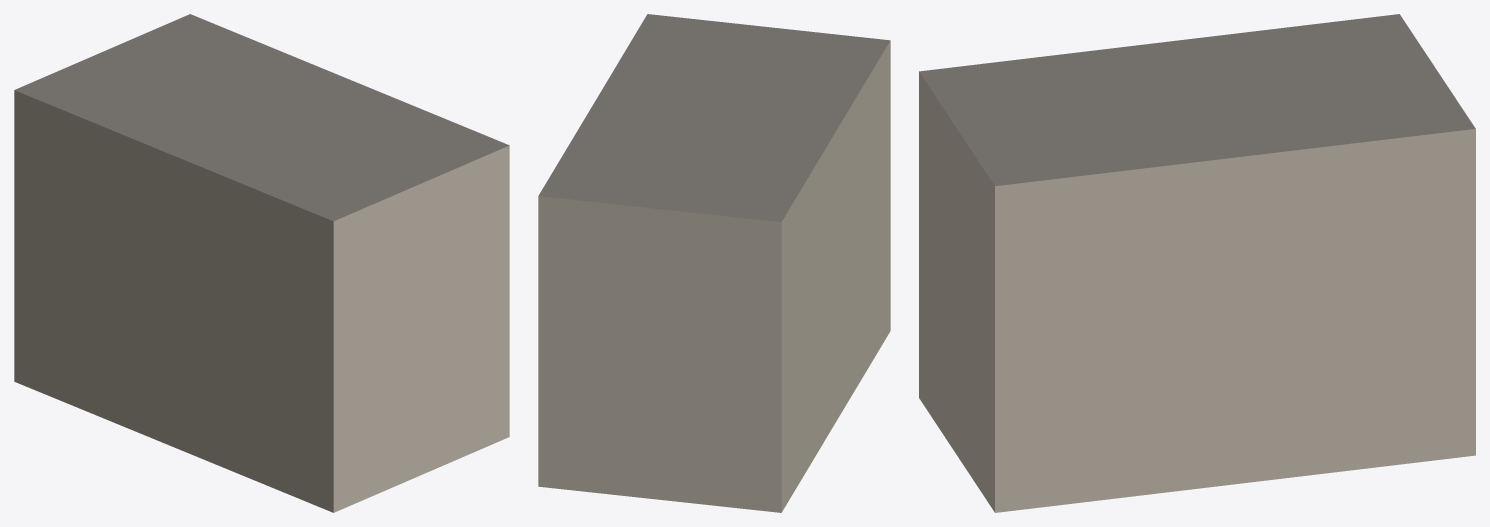
3 views of the same model, side by side, from view 1: azimuth 30°, elevation 25°; view 2: azimuth 150°, elevation 25°; view 3: azimuth 270°, elevation 25° (orthographic). The views are drawn at different scales.
Parts seen in each view (by area): view 1: HP-w378107171; view 2: HP-w378107171; view 3: HP-w378107171.
Boxes of the visible parts, box(x1,y1,x2,y2) form: HP-w378107171: box(14, 14, 509, 512); HP-w378107171: box(538, 14, 890, 512); HP-w378107171: box(919, 14, 1475, 512).
Size of the model in its own units: 20.35 by 18 by 27.8.
